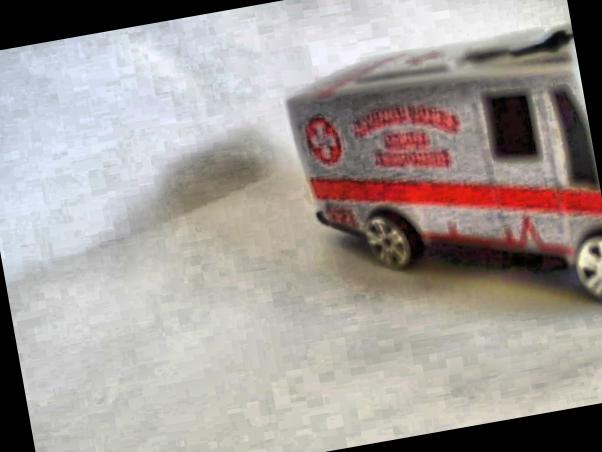ambulance: (278, 18, 602, 355)
